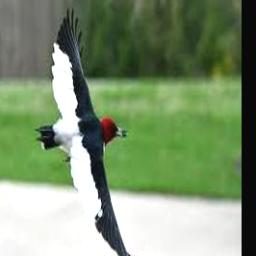Woodpecker: (36, 7, 145, 256)
